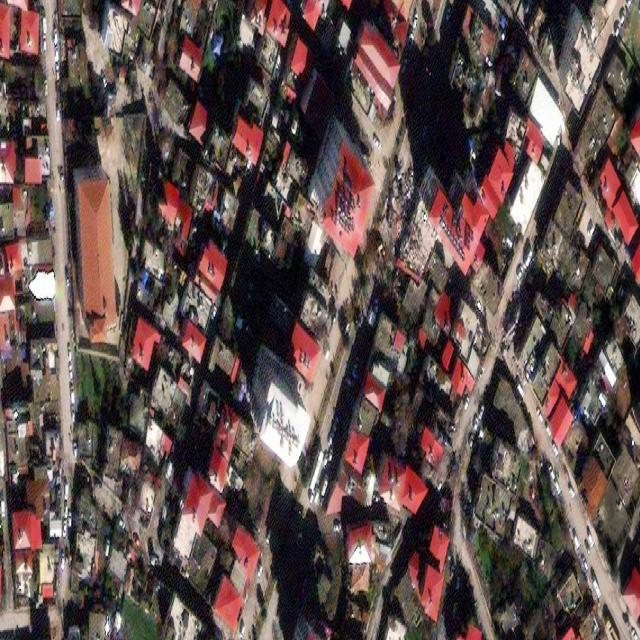Rubble: (398, 189, 432, 269)
